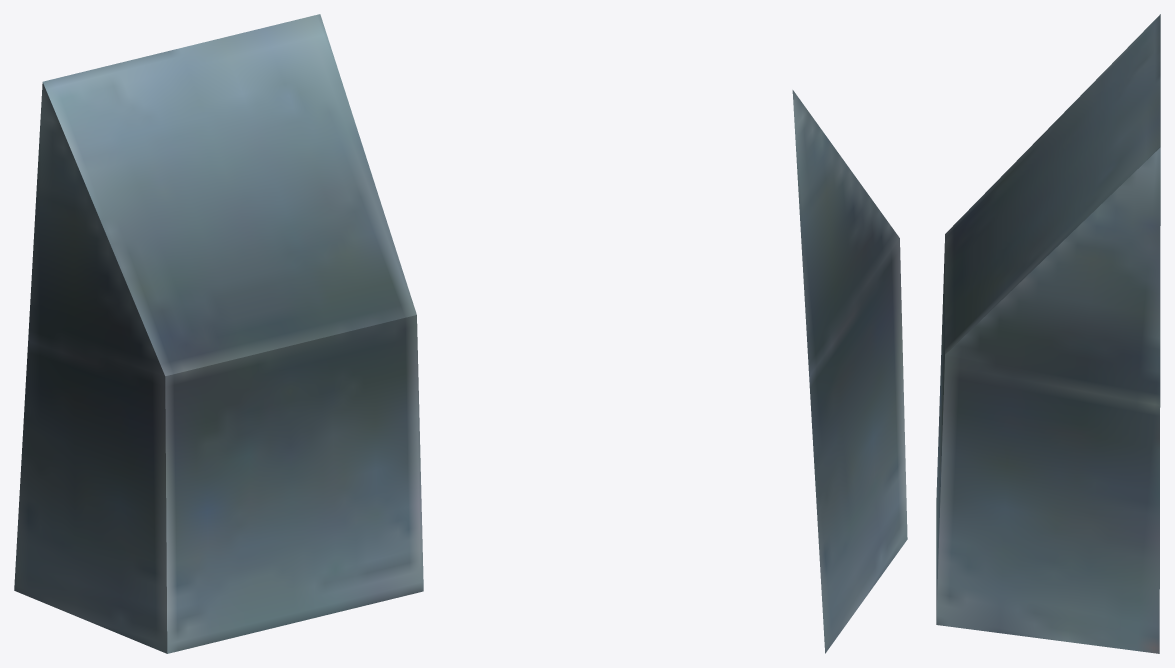
The model's file is Kart 1 Scoop.glb.
The picture shows the model from 3 angles, left to right: view 1: azimuth 30°, elevation 25°; view 2: azimuth 150°, elevation 25°; view 3: azimuth 270°, elevation 25°; orthographic projection. The views are drawn at different scales.
Visible parts, largest first — view 1: scoop; view 2: scoop; view 3: scoop.
Boxes of the visible parts, bbox=[...] form: scoop: bbox=[14, 14, 423, 653]; scoop: bbox=[792, 90, 907, 653]; scoop: bbox=[936, 14, 1160, 653].
Size of the model in its own units: 0.4354 by 0.622 by 0.2565.
1 material, 1 textured.
